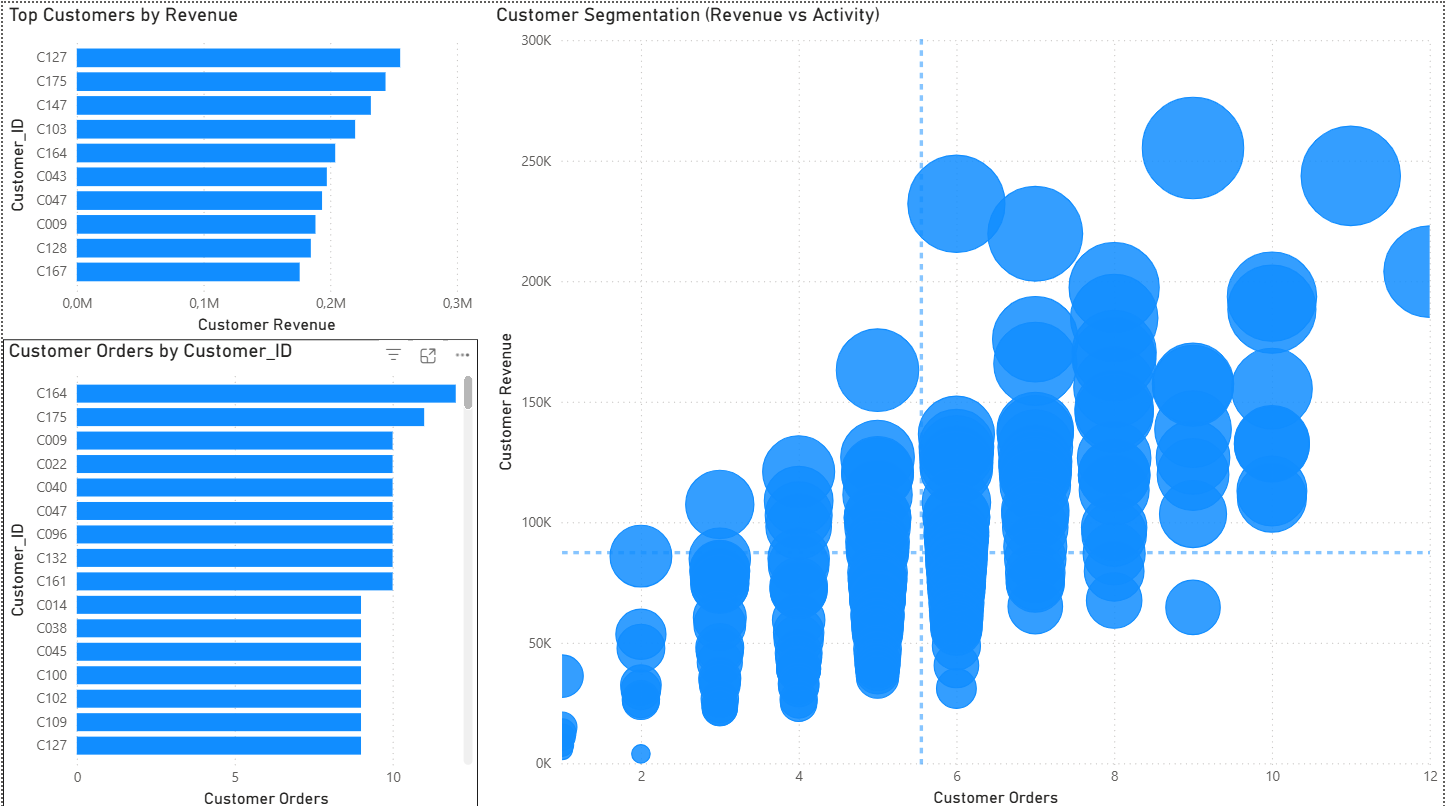

Layout of this report page (visuals, bound fields, positions):
{"tool":"powerbi","page":{"name":"Page 2 - Customer Analysis","canvas":[1280,720],"ordinal":1},"visuals":[{"type":"barChart","title":"Top Customers by Revenue","fields":{"Category":["sales.Customer_ID"],"Y":["sales.Customer Revenue"]},"box":[0,0,422.6,299.1],"z":0},{"type":"barChart","fields":{"Category":["sales.Customer_ID"],"Y":["sales.Customer Orders"]},"box":[0,299.1,422.6,421.3],"z":1},{"type":"scatterChart","title":"Customer Segmentation (Revenue vs Activity)","fields":{"X":["sales.Customer Orders"],"Size":["sales.Customer Revenue"],"Category":["sales.Customer_ID"],"Y":["sales.Customer Revenue"]},"box":[433.3,0,847,719.8],"z":2}]}

Visuals, with their boxes in screenshot pixels (x1, y1, x2, y2), scaled from the page's 1280x720 canvas onto the 1449x806 screenshot:
"Top Customers by Revenue" barChart: <region>0, 0, 478, 335</region>
barChart - sales.Customer_ID x sales.Customer Orders: <region>0, 335, 478, 805</region>
"Customer Segmentation (Revenue vs Activity)" scatterChart: <region>491, 0, 1448, 805</region>
